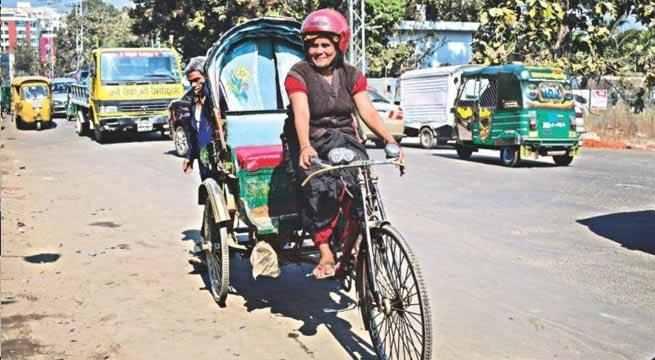Rickshaw: (188, 5, 439, 328)
